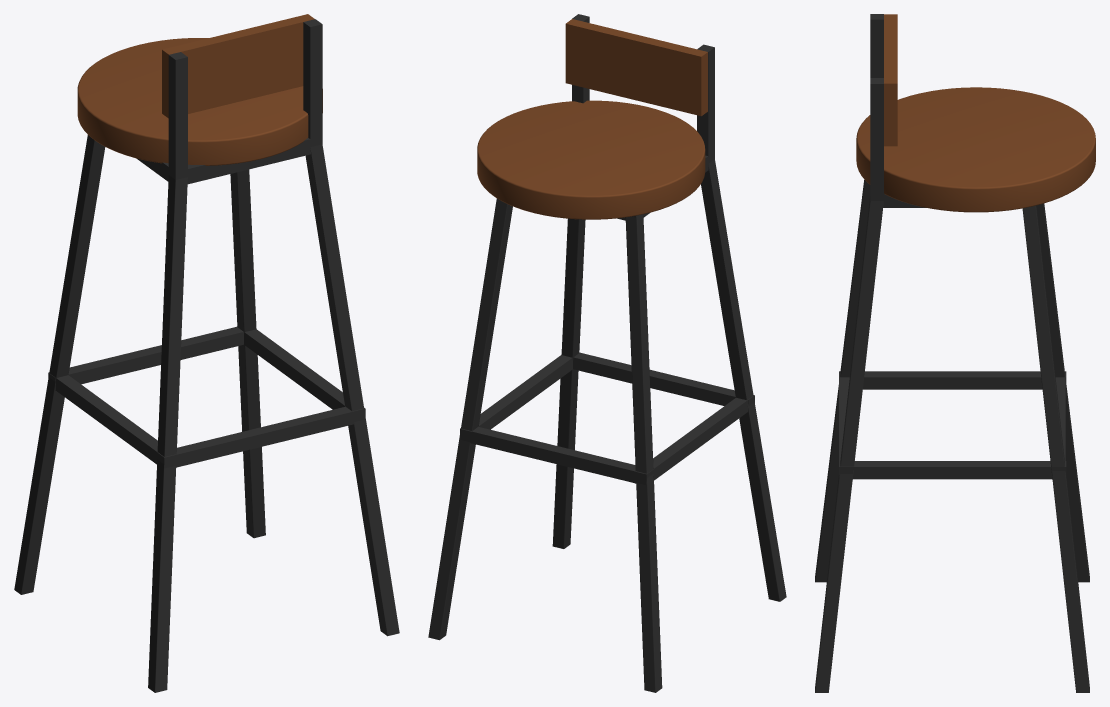
3 renders of one model, left to right at view 1: azimuth 30°, elevation 25°; view 2: azimuth 150°, elevation 25°; view 3: azimuth 270°, elevation 25°, orthographic. The views are drawn at different scales.
Parts seen in each view (by area): view 1: stool; view 2: stool; view 3: stool.
Part boxes in pixels (left/top/right/bottom): stool: left=14, top=14, right=399, bottom=692; stool: left=428, top=14, right=786, bottom=692; stool: left=815, top=14, right=1095, bottom=692.
Size of the model in its own units: 0.32 by 0.75 by 0.326.
